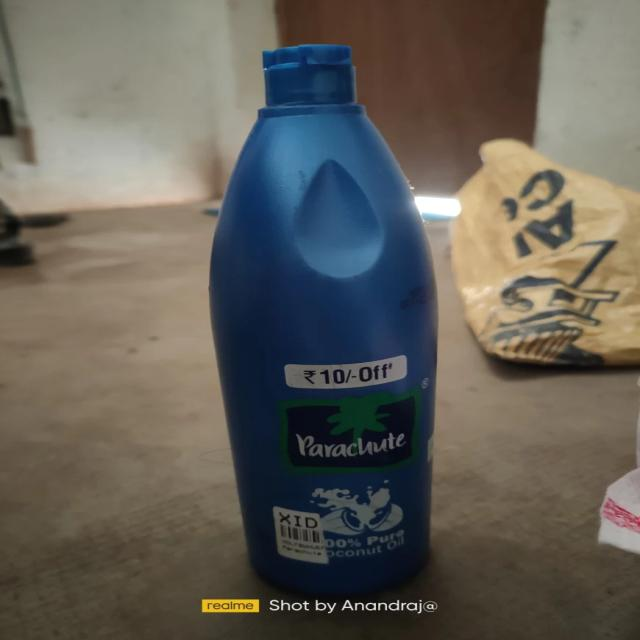parachute_oil: (201, 47, 446, 597)
